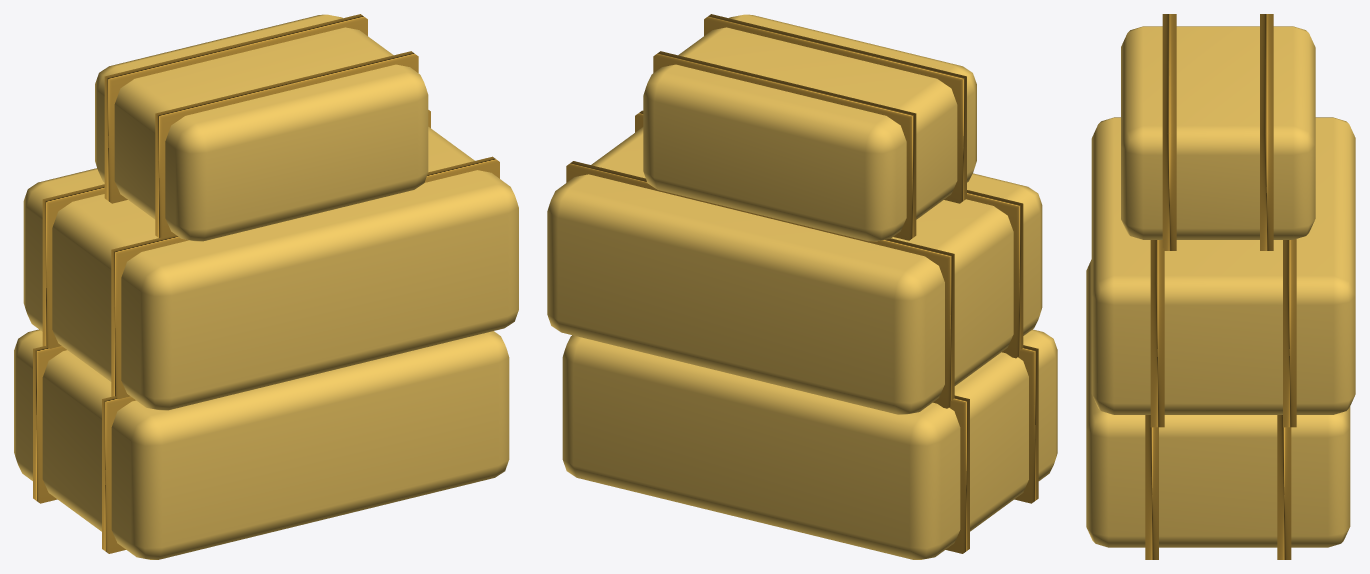
Rendered from gulch_hay.glb.
The picture shows the model from 3 angles, left to right: view 1: azimuth 30°, elevation 25°; view 2: azimuth 150°, elevation 25°; view 3: azimuth 270°, elevation 25°; orthographic projection. The views are drawn at different scales.
Parts seen in each view (by area): view 1: Hay; view 2: Hay; view 3: Hay.
Boxes of the visible parts, box(x1,y1,x2,y2) form: Hay: box(14, 14, 518, 559); Hay: box(547, 14, 1057, 559); Hay: box(1086, 14, 1355, 559).
Size of the model in its own units: 1.57 by 1.58 by 0.97.
